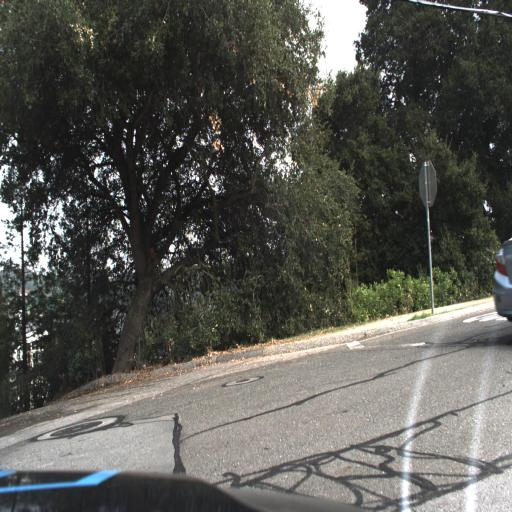car: (489, 219, 512, 334)
